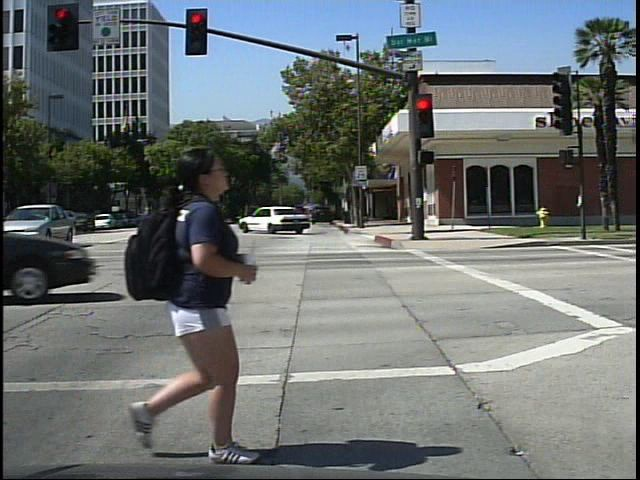person: (104, 126, 297, 468)
